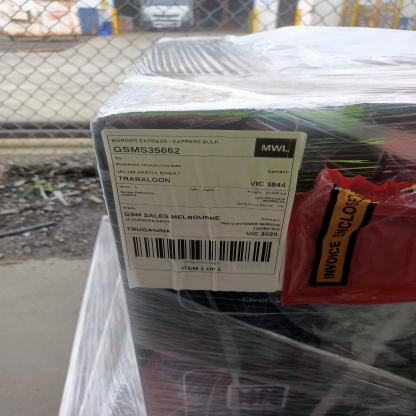label: (107, 129, 306, 295)
package: (93, 30, 416, 416)
